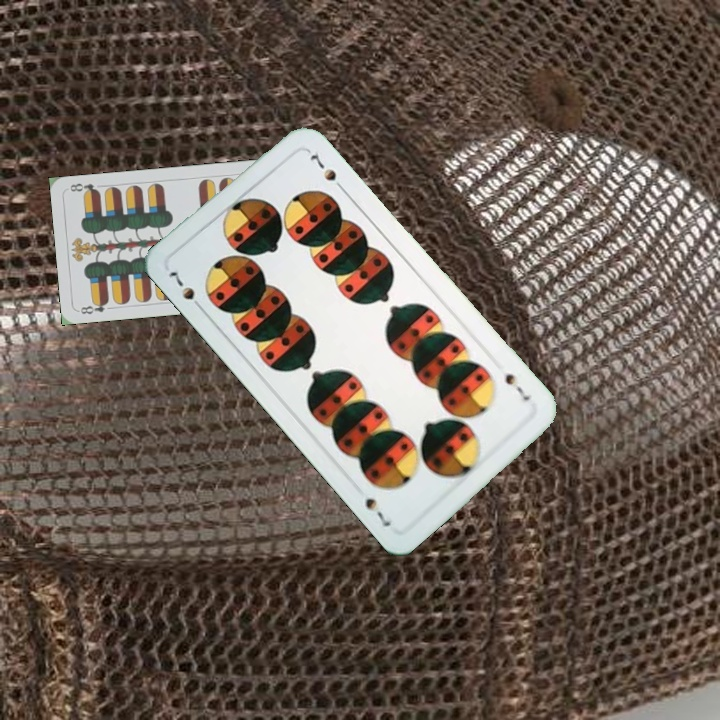E8: (76, 297, 111, 317)
S7: (164, 267, 207, 314), (500, 369, 533, 404)
